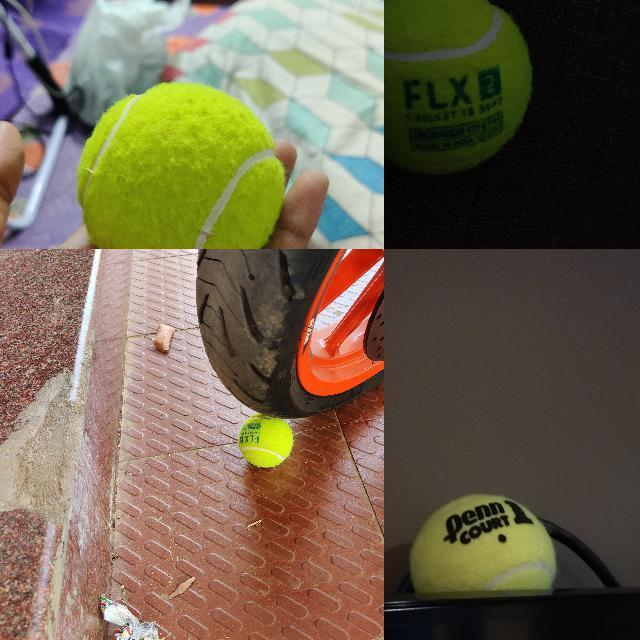tennis-ball: (75, 81, 286, 248), (384, 0, 532, 176), (407, 492, 558, 587), (238, 419, 293, 467)
